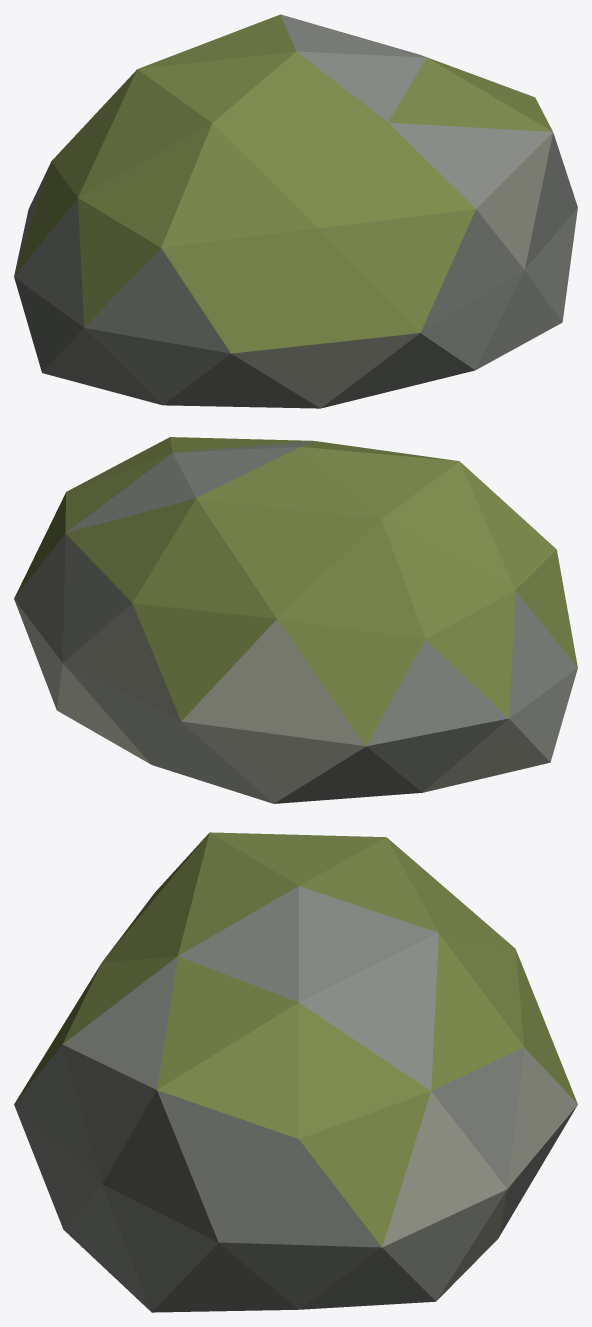
File: SM_MossRock_02.fbx
3 views of the same model, one above another, from view 1: azimuth 30°, elevation 25°; view 2: azimuth 150°, elevation 25°; view 3: azimuth 270°, elevation 25° (orthographic). The views are drawn at different scales.
Visible parts, largest first — view 1: SM_MossRock_02; view 2: SM_MossRock_02; view 3: SM_MossRock_02.
Part boxes in pixels (x1,y1,x2,y2): SM_MossRock_02: [14, 14, 577, 408]; SM_MossRock_02: [14, 437, 577, 803]; SM_MossRock_02: [14, 832, 577, 1312].
Size of the model in its own units: 2.91 by 2.43 by 1.51.
